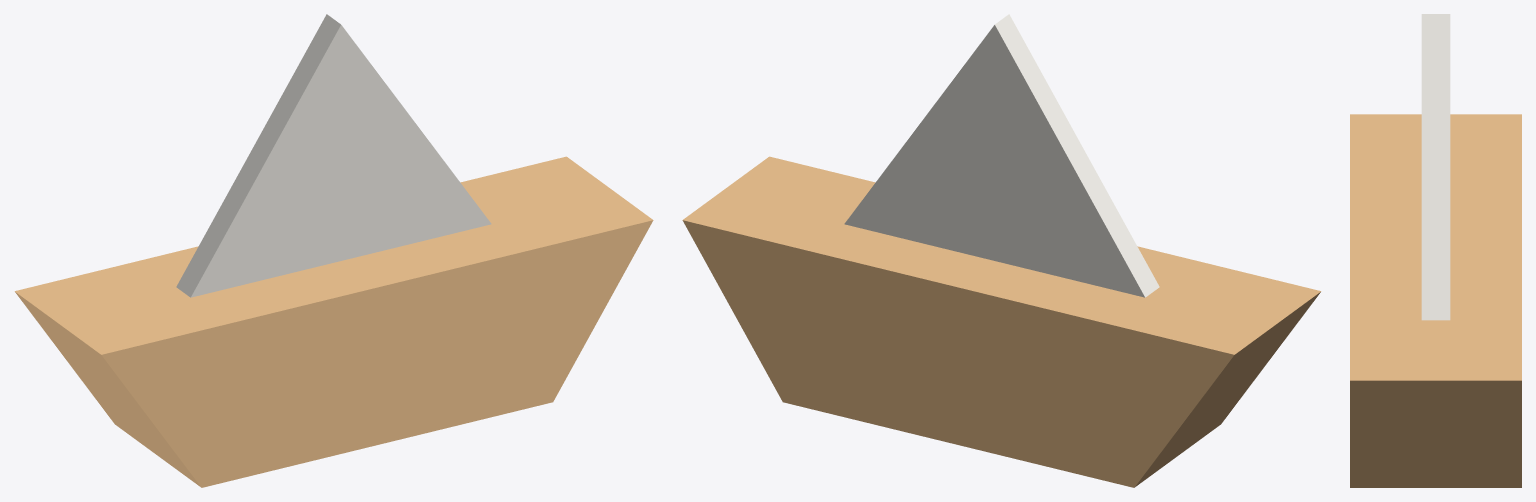
Rendered from deco_paper_boat.obj.
3 views of the same model, side by side, from view 1: azimuth 30°, elevation 25°; view 2: azimuth 150°, elevation 25°; view 3: azimuth 270°, elevation 25° (orthographic).
Parts seen in each view (by area): view 1: deco_paper_boat; view 2: deco_paper_boat; view 3: deco_paper_boat.
Boxes of the visible parts, x1,y1,x2,y2 form: deco_paper_boat: [14, 14, 653, 487]; deco_paper_boat: [682, 14, 1321, 487]; deco_paper_boat: [1350, 14, 1521, 487].
Bounding box in the file's own units: 0.044 × 0.03 × 0.012.
1 material, 1 textured.
